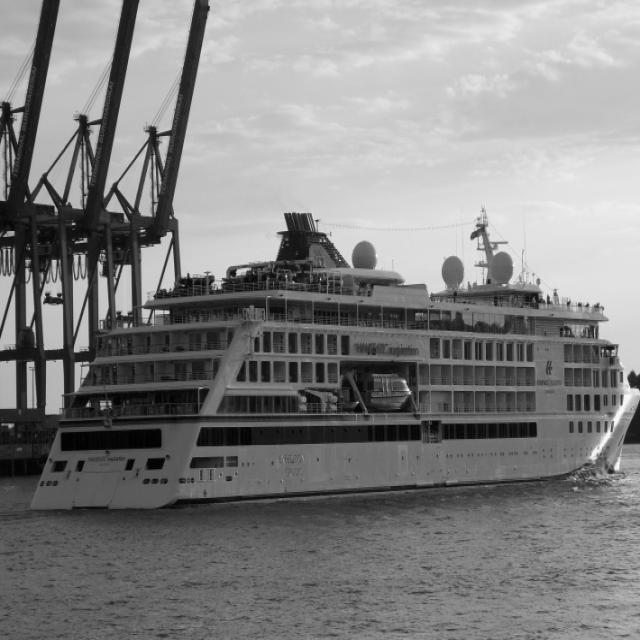cruises: (22, 204, 640, 519)
